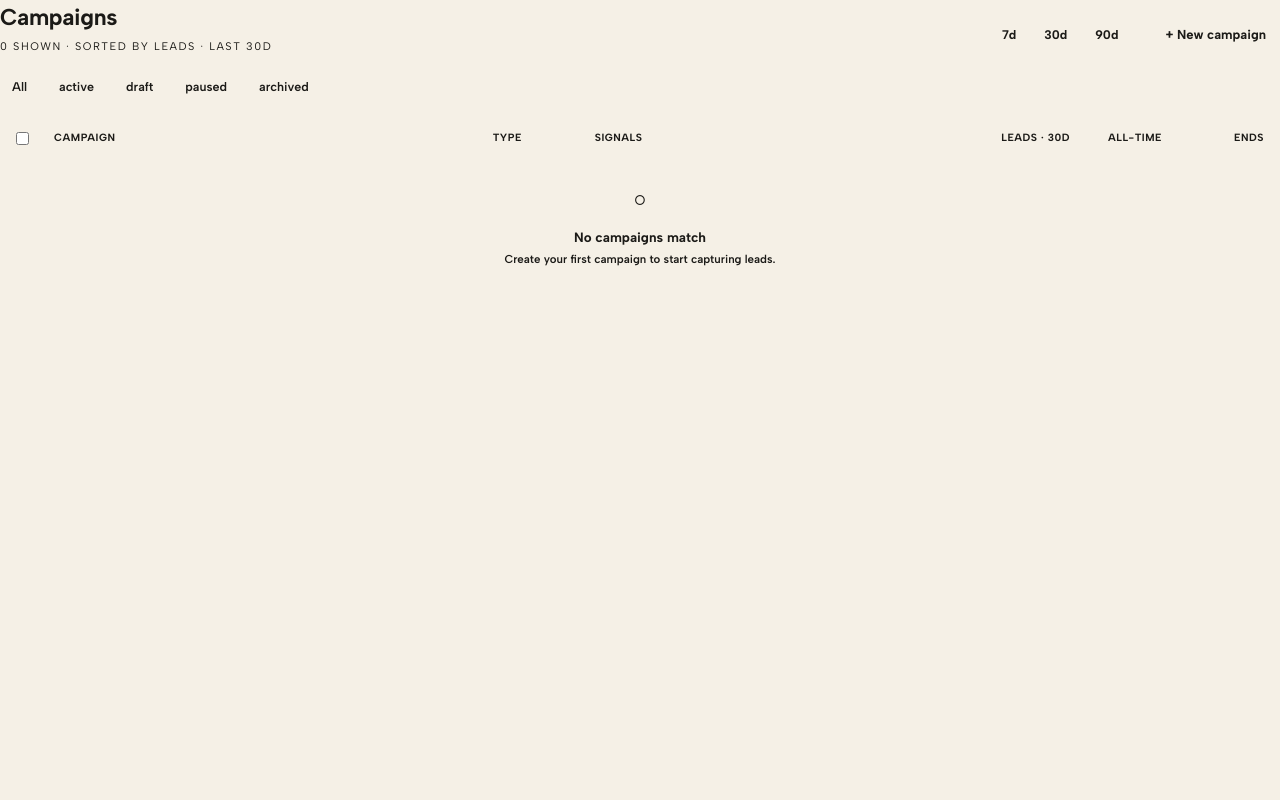
Test: AdminV2Campaigns — new-campaign type chooser › opens the type dialog instead of navigating directly
This screenshot has width=1280, height=800.
Expected: the text "Create New Campaign" is not shown
Click the button "+ New campaign".
click(1216, 35)  # box [1151,15,1279,55]
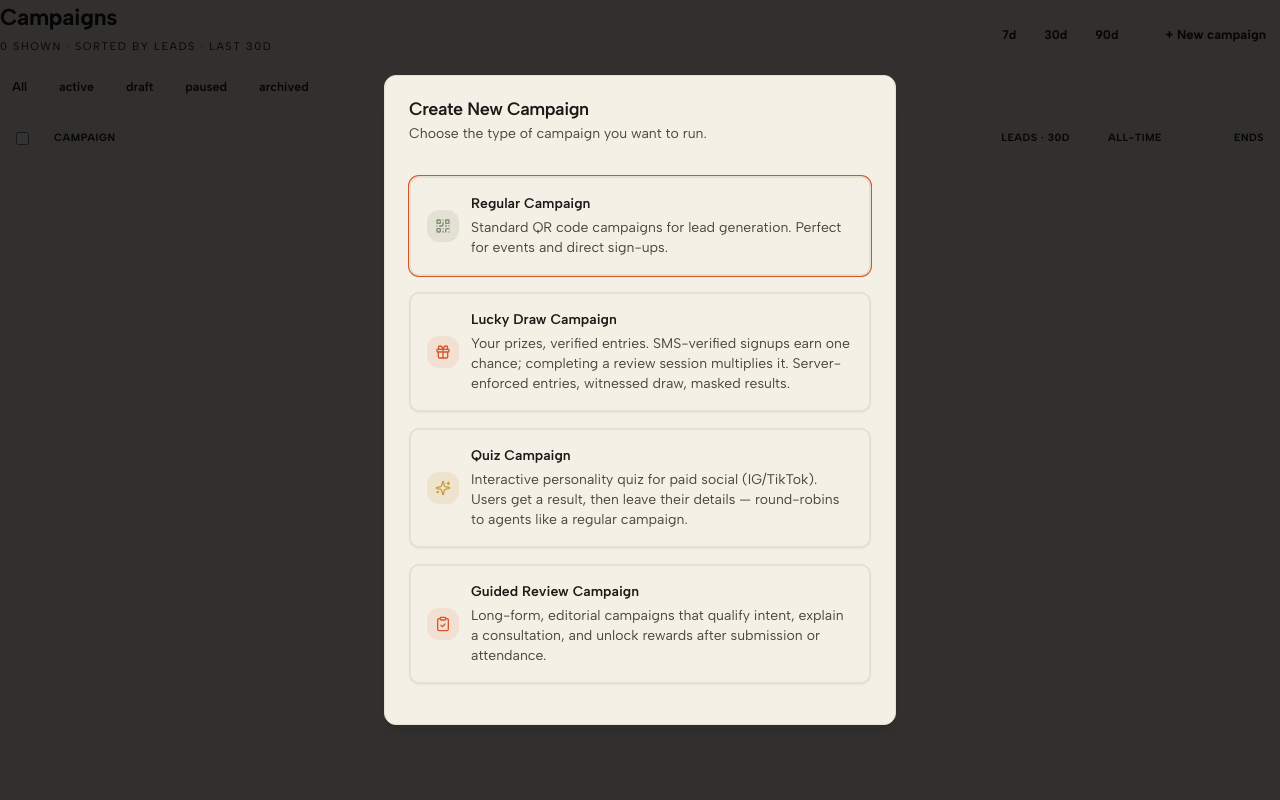
Now the heading "Create New Campaign" is shown, box [409,98,589,120]
